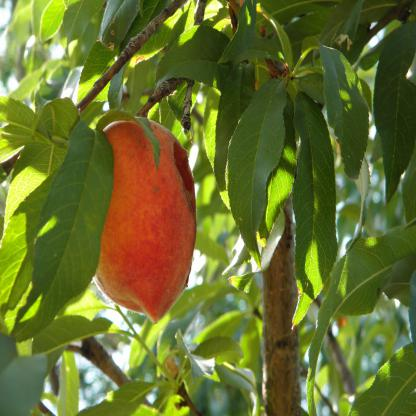peach leaf: (7, 126, 111, 341), (306, 222, 413, 416), (217, 76, 292, 268), (292, 90, 338, 333), (369, 24, 415, 206), (317, 40, 373, 188), (158, 23, 236, 88)
